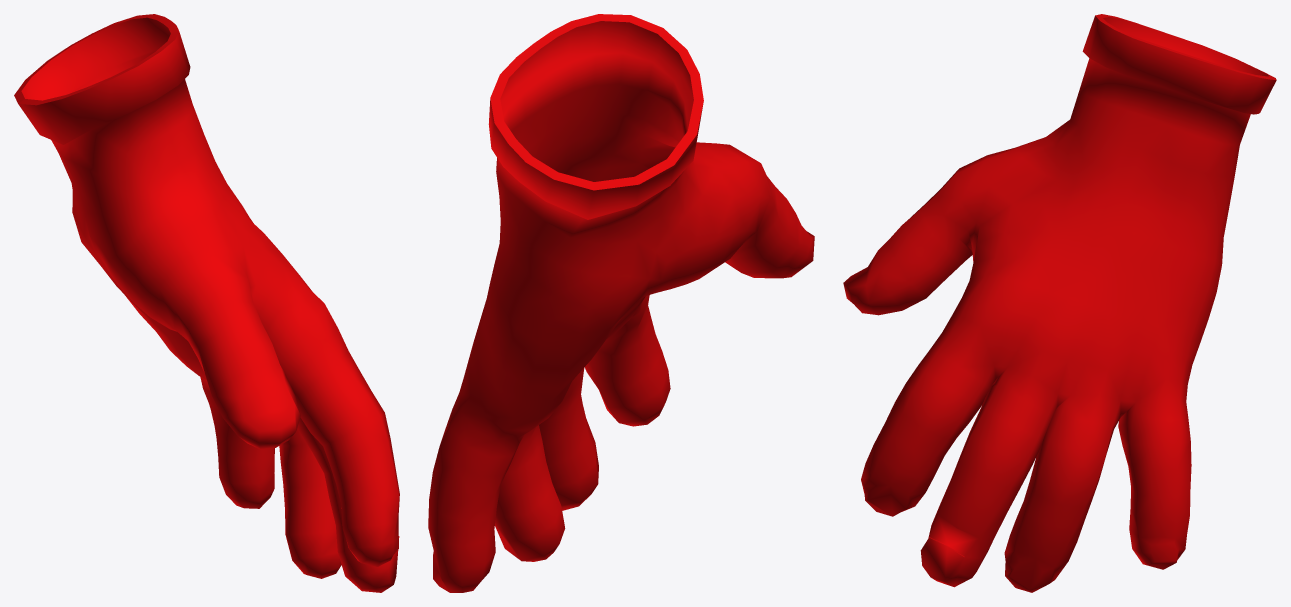
File: left_glove.glb
The picture shows the model from 3 angles, left to right: view 1: azimuth 30°, elevation 25°; view 2: azimuth 150°, elevation 25°; view 3: azimuth 270°, elevation 25°; orthographic projection. The views are drawn at different scales.
Visible parts, largest first — view 1: GEO-body_male_realistic.001; view 2: GEO-body_male_realistic.001; view 3: GEO-body_male_realistic.001.
Boxes of the visible parts, bbox=[...] form: GEO-body_male_realistic.001: bbox=[14, 14, 399, 592]; GEO-body_male_realistic.001: bbox=[428, 14, 814, 592]; GEO-body_male_realistic.001: bbox=[843, 14, 1276, 592].
Size of the model in its own units: 0.1092 by 0.2162 by 0.1656.
